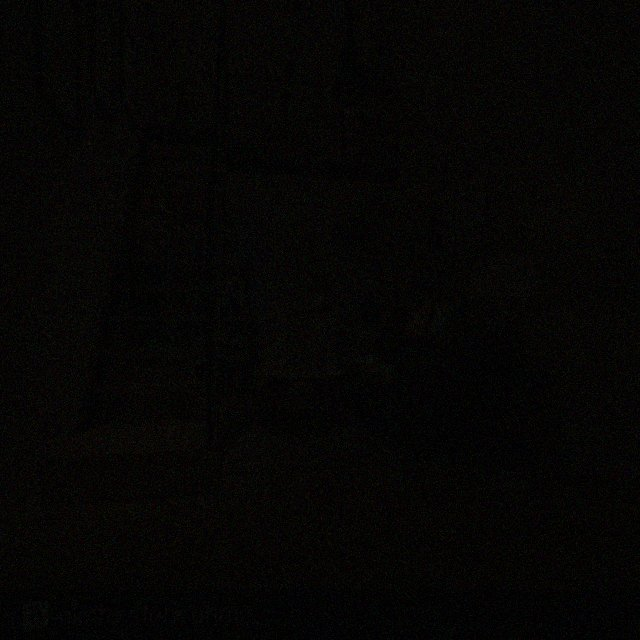stair: (86, 127, 261, 448)
